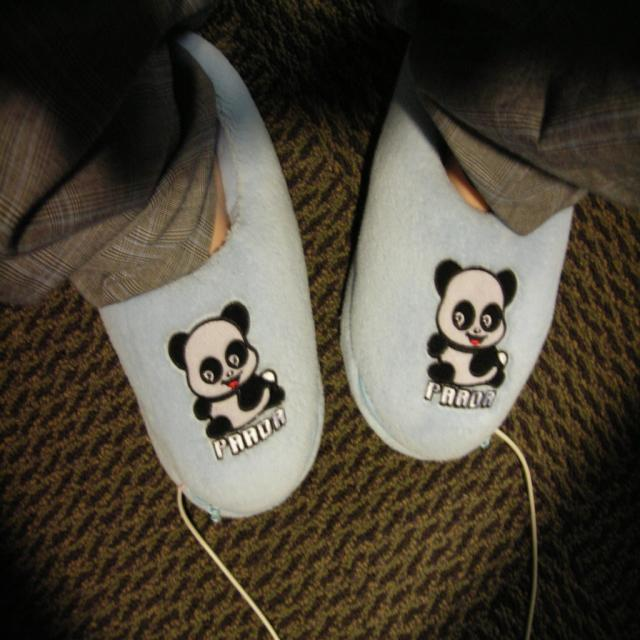panda: (164, 302, 285, 439), (425, 255, 516, 385)
